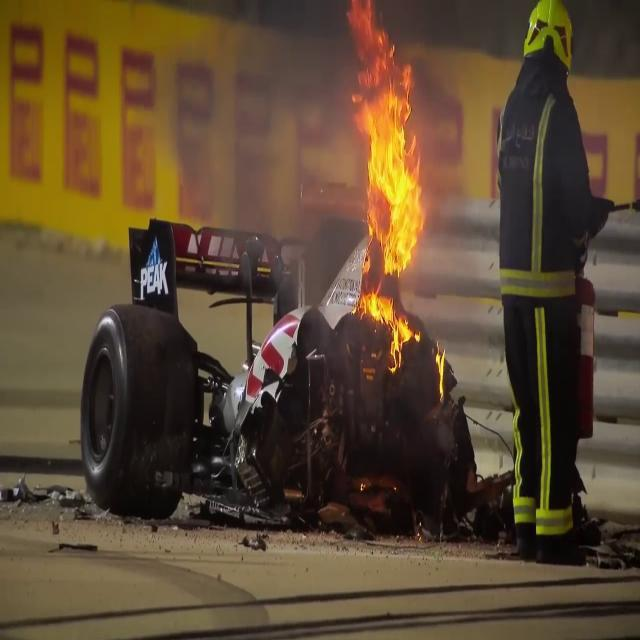Fire: (341, 8, 431, 358)
Smoke: (162, 1, 352, 276)
